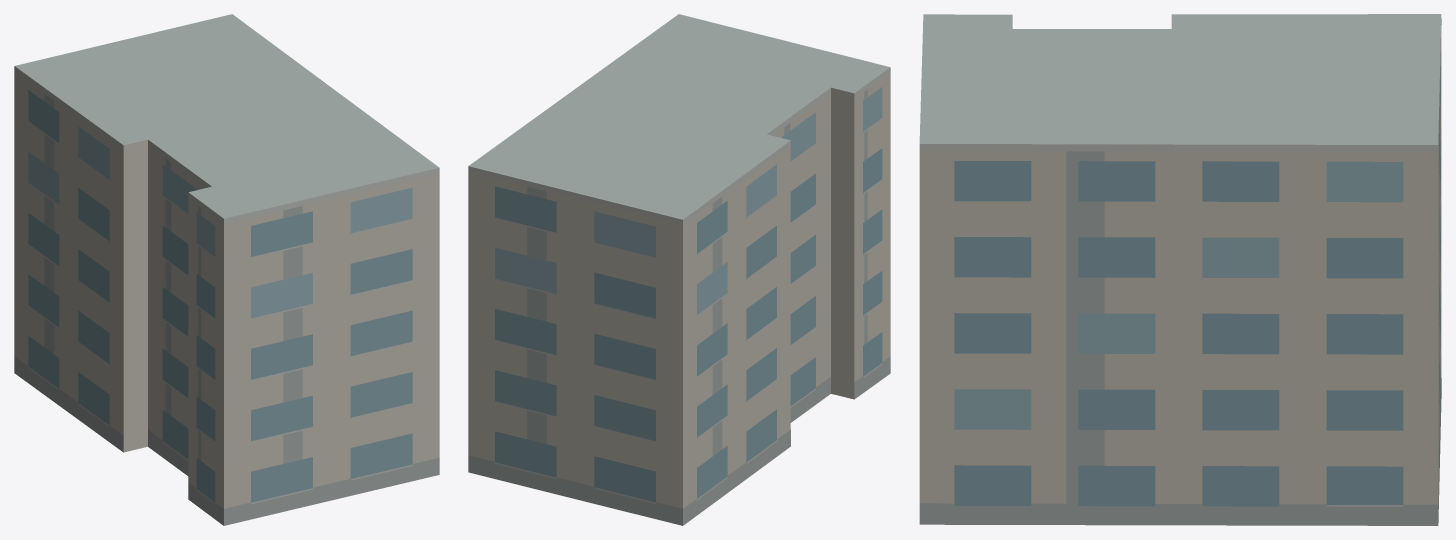
File: survey-upis-32638596.glb
3 renders of one model, left to right at view 1: azimuth 30°, elevation 25°; view 2: azimuth 150°, elevation 25°; view 3: azimuth 270°, elevation 25°, orthographic. The views are drawn at different scales.
Visible parts, largest first — view 1: survey-upis-32638596.tmp; view 2: survey-upis-32638596.tmp; view 3: survey-upis-32638596.tmp.
Boxes of the visible parts, box(x1,y1,x2,y2) form: survey-upis-32638596.tmp: box(14, 14, 439, 525); survey-upis-32638596.tmp: box(468, 14, 890, 525); survey-upis-32638596.tmp: box(919, 14, 1441, 525).
Size of the model in its own units: 9.69 by 13.1 by 16.28.
